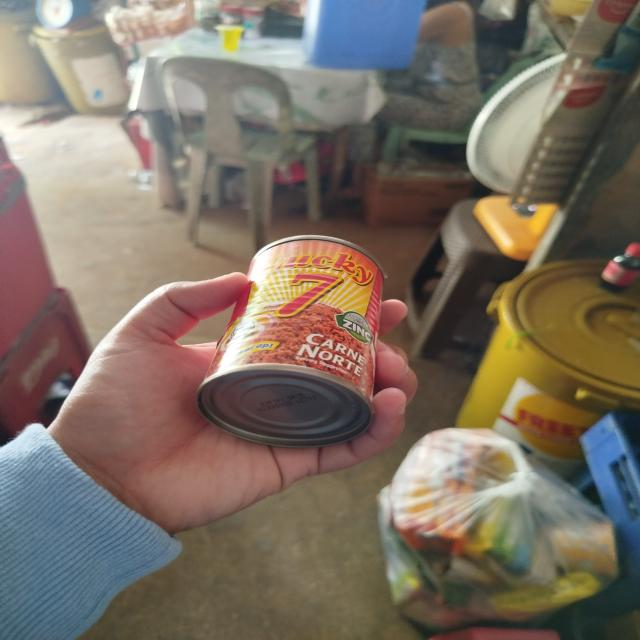metal: (190, 222, 390, 456)
plastic: (597, 238, 640, 296)
residual: (376, 418, 627, 633)
